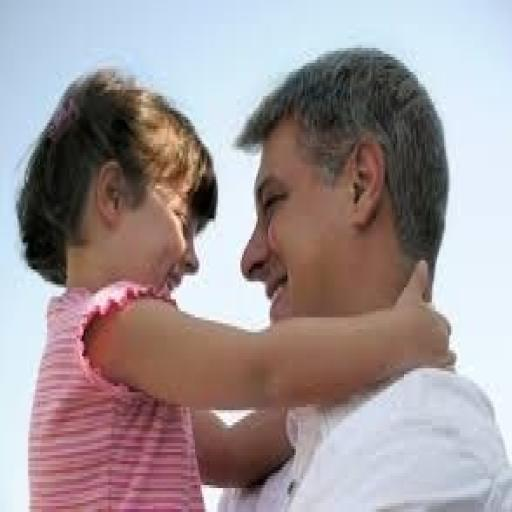hugging: (14, 57, 458, 509)
